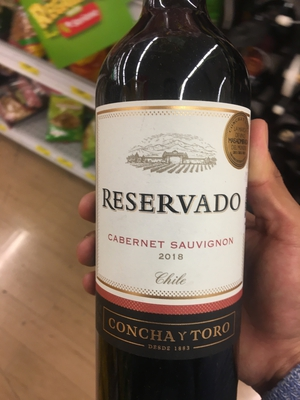reservado cabernet sauvignon: (87, 14, 256, 400)
